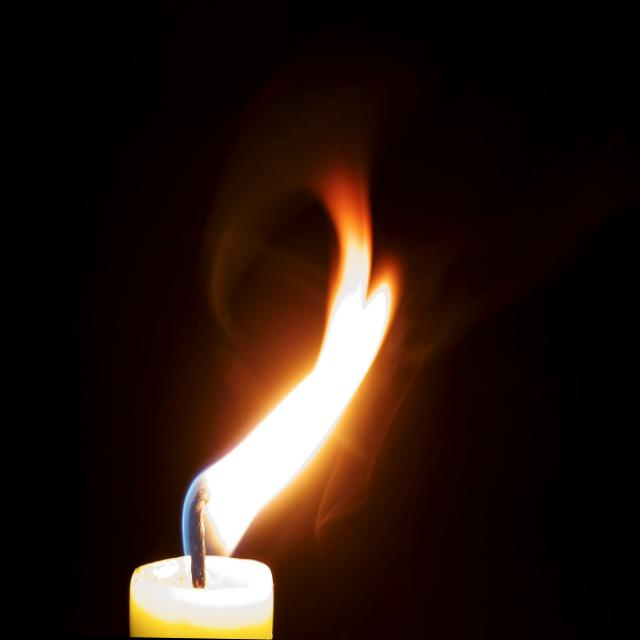Fire_Save: (127, 8, 640, 640), (178, 152, 398, 562)
